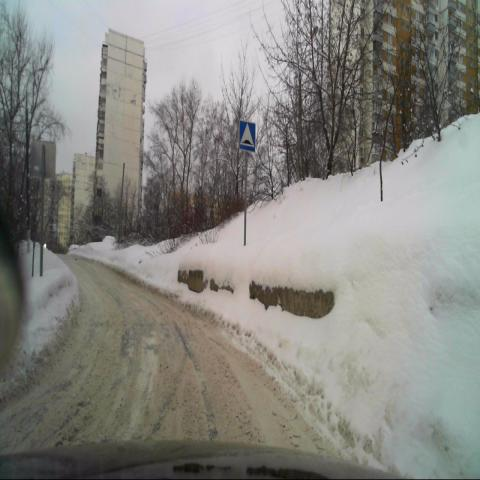5_20: (238, 119, 256, 152)
